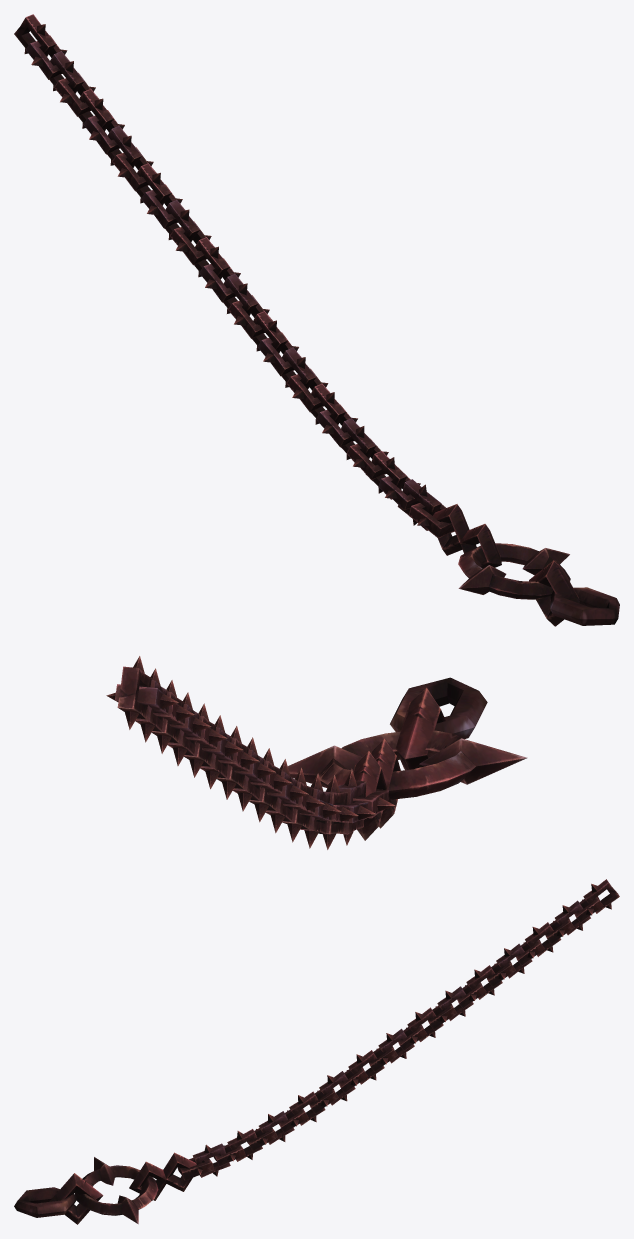
Rendered from mesh_tower_chain03.FBX.
3 views of the same model, one above another, from view 1: azimuth 30°, elevation 25°; view 2: azimuth 150°, elevation 25°; view 3: azimuth 270°, elevation 25° (orthographic). The views are drawn at different scales.
Parts seen in each view (by area): view 1: mesh_tower_chain03; view 2: mesh_tower_chain03; view 3: mesh_tower_chain03.
Boxes of the visible parts, left/top/right/bottom form: mesh_tower_chain03: left=14, top=14, right=619, bottom=626; mesh_tower_chain03: left=106, top=656, right=527, bottom=849; mesh_tower_chain03: left=14, top=879, right=619, bottom=1224.
Bounding box in the file's own units: 10.36 × 16.16 × 31.14.
